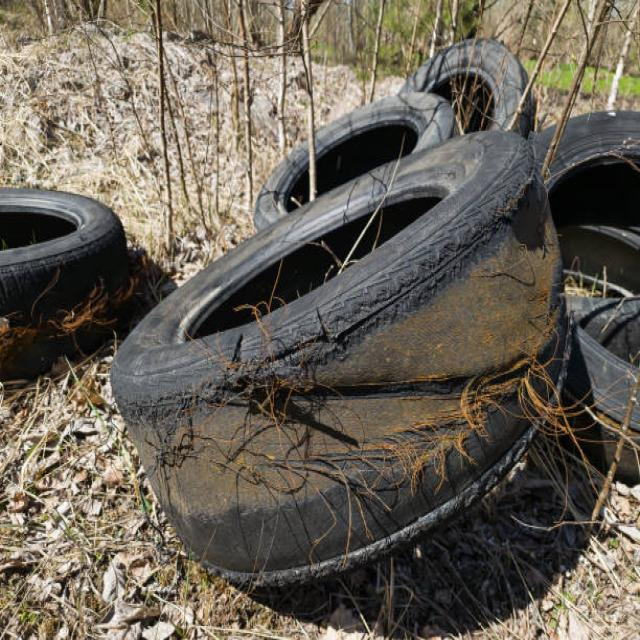tire: (109, 128, 570, 594), (252, 89, 459, 234), (0, 184, 130, 379), (398, 36, 536, 137)
